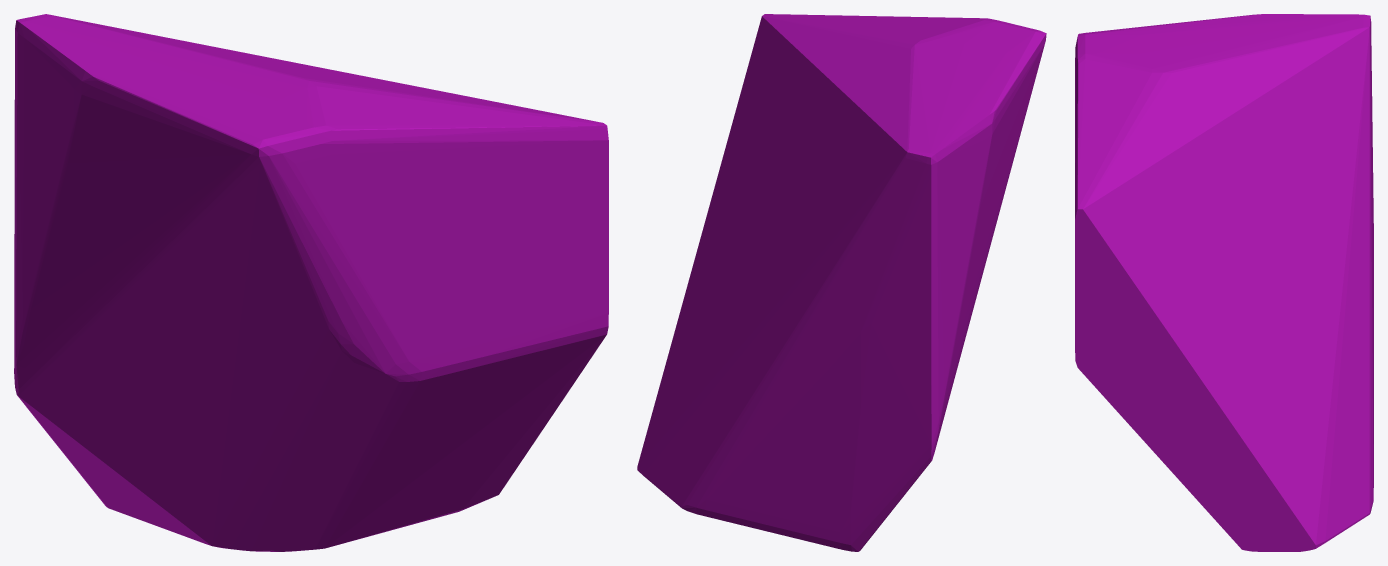
Rendered from right-shoulder-pitch-0_part_22.obj.
3 renders of one model, left to right at view 1: azimuth 30°, elevation 25°; view 2: azimuth 150°, elevation 25°; view 3: azimuth 270°, elevation 25°, orthographic. The views are drawn at different scales.
Bounding box in the file's own units: 0.0427 × 0.0523 × 0.0361.
